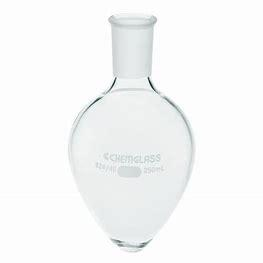Pear shaped flask: (64, 9, 197, 250)
